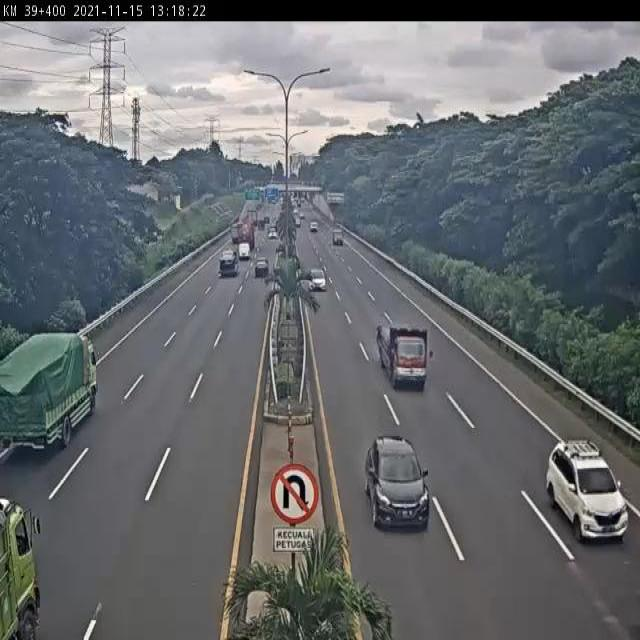car: (546, 436, 630, 541), (364, 434, 430, 530)
truck-l-: (0, 328, 99, 452)
truck-m-: (376, 319, 427, 389)
